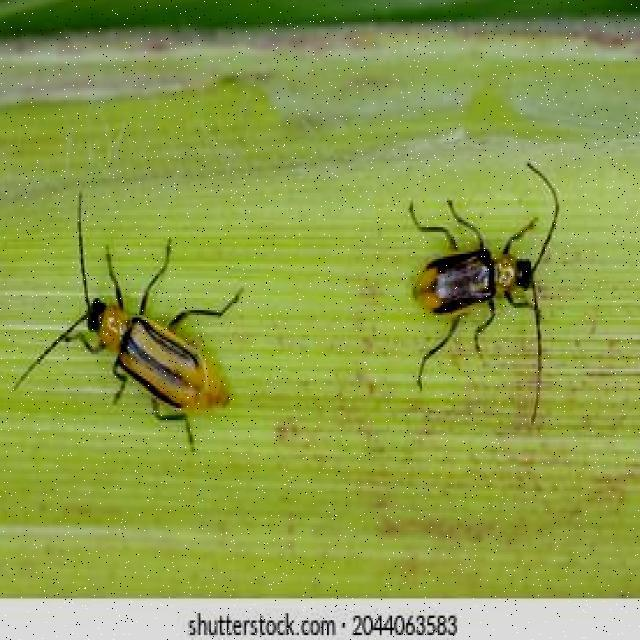trips: (20, 191, 254, 465), (394, 160, 578, 424)
